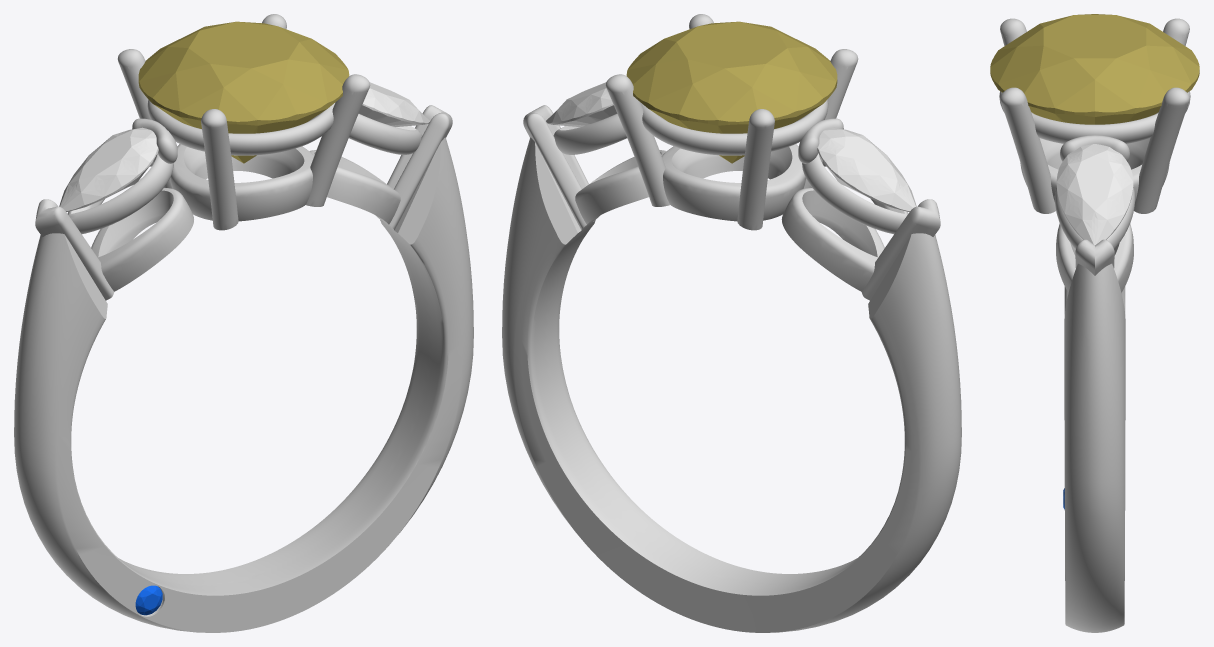
File: ScottB 3 stone.glb
3 views of the same model, side by side, from view 1: azimuth 30°, elevation 25°; view 2: azimuth 150°, elevation 25°; view 3: azimuth 270°, elevation 25° (orthographic).
Visible parts, largest first — view 1: Scott PT for 3d model, Scott spessartite garnet for 3d model, Scott dia for 3d model.001, Scott dia for 3d model, Scott sapph for 3d model; view 2: Scott PT for 3d model, Scott spessartite garnet for 3d model, Scott dia for 3d model.001, Scott dia for 3d model; view 3: Scott PT for 3d model, Scott spessartite garnet for 3d model, Scott dia for 3d model.
Boxes of the visible parts, bbox=[...] form: Scott PT for 3d model: bbox=[14, 14, 473, 632]; Scott spessartite garnet for 3d model: bbox=[138, 21, 349, 163]; Scott dia for 3d model.001: bbox=[59, 127, 158, 211]; Scott dia for 3d model: bbox=[358, 82, 429, 126]; Scott sapph for 3d model: bbox=[135, 585, 162, 615]; Scott PT for 3d model: bbox=[502, 14, 961, 632]; Scott spessartite garnet for 3d model: bbox=[626, 21, 837, 163]; Scott dia for 3d model.001: bbox=[817, 127, 916, 211]; Scott dia for 3d model: bbox=[546, 82, 617, 126]; Scott PT for 3d model: bbox=[999, 18, 1190, 632]; Scott spessartite garnet for 3d model: bbox=[990, 14, 1199, 124]; Scott dia for 3d model: bbox=[1056, 144, 1133, 245].
Bounding box in the file's own units: 20.32 × 24.7 × 8.2.
